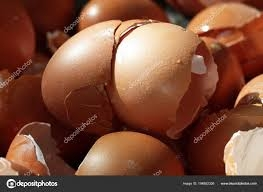kitchen_waste: (109, 8, 220, 139), (39, 13, 122, 134), (186, 1, 263, 87), (72, 127, 187, 178), (2, 119, 78, 181), (77, 1, 167, 37), (231, 72, 263, 105)
